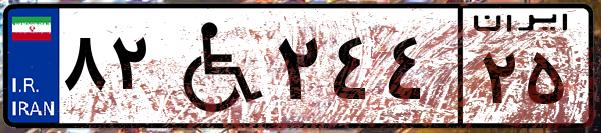2: (270, 28, 330, 110), (475, 38, 525, 113), (110, 28, 158, 98)
4: (385, 28, 445, 110), (330, 28, 385, 110)
5: (525, 38, 570, 115)
8: (57, 26, 110, 100)
ژ (معلولین و جانبازان): (158, 12, 270, 120)
